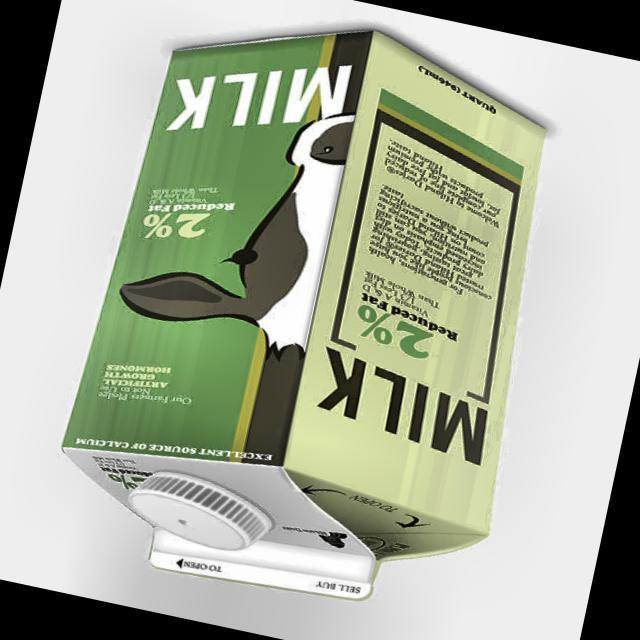cardboard: (40, 0, 587, 634)
